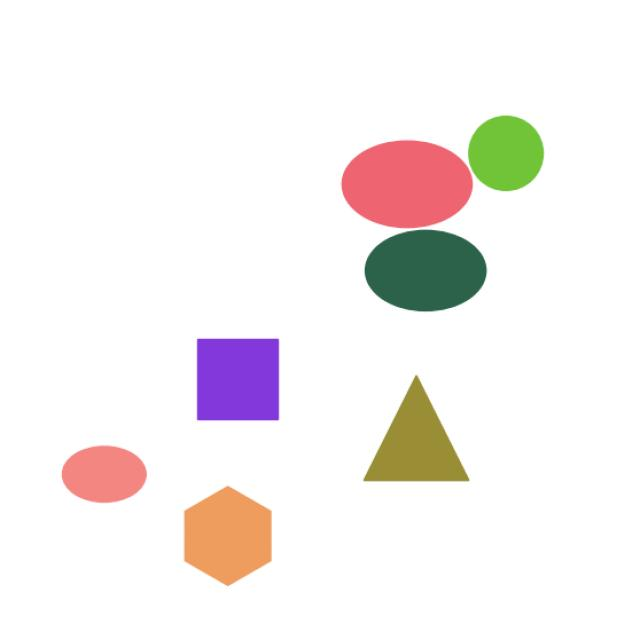Circle: (458, 109, 550, 199)
Hexagon: (176, 475, 284, 597)
Oval: (354, 206, 498, 328), (331, 132, 483, 235), (46, 439, 153, 517)
Triangle: (360, 356, 497, 518)
square: (178, 325, 305, 438)
